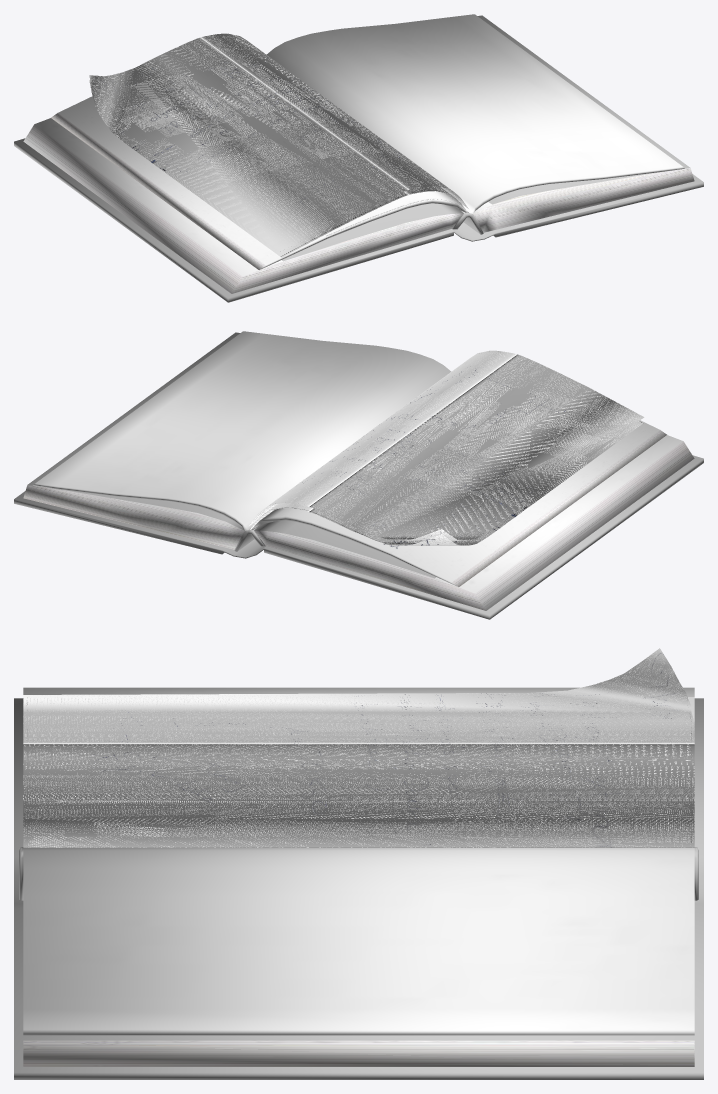
File: low-quality book but best.fbx
The picture shows the model from 3 angles, top to bottom: view 1: azimuth 30°, elevation 25°; view 2: azimuth 150°, elevation 25°; view 3: azimuth 270°, elevation 25°; orthographic projection. The views are drawn at different scales.
Visible parts, largest first — view 1: Book_02_low.002, Book_02_low.003, Book_02_low.004; view 2: Book_02_low.002, Book_02_low.003, Book_02_low.004; view 3: Book_02_low.002, Book_02_low.003, Book_02_low.004.
Part boxes in pixels (left/top/right/bottom): Book_02_low.002: left=14, top=14, right=703, bottom=302; Book_02_low.003: left=89, top=33, right=468, bottom=252; Book_02_low.004: left=89, top=80, right=467, bottom=257; Book_02_low.002: left=14, top=331, right=703, bottom=619; Book_02_low.003: left=249, top=350, right=644, bottom=540; Book_02_low.004: left=250, top=420, right=644, bottom=545; Book_02_low.002: left=14, top=687, right=703, bottom=1079; Book_02_low.003: left=23, top=648, right=694, bottom=847; Book_02_low.004: left=23, top=847, right=694, bottom=847.
Size of the model in its own units: 20 by 2.66 by 15.58.
